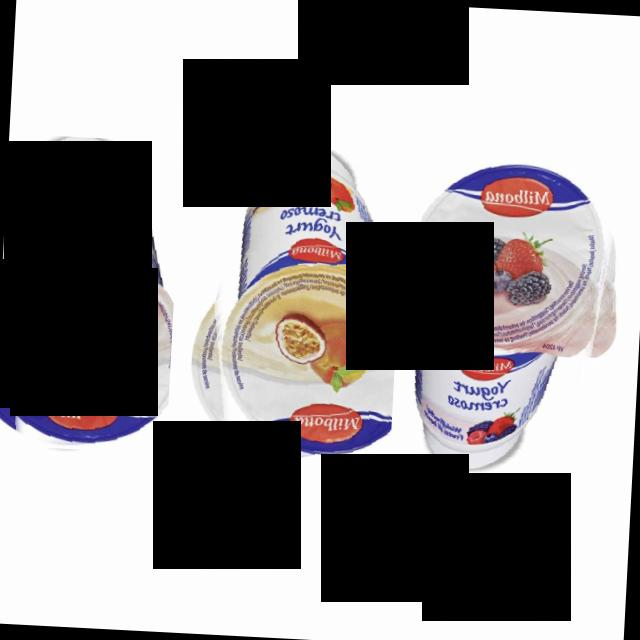yogurt: (184, 144, 406, 466), (409, 154, 627, 480), (0, 133, 182, 454)
